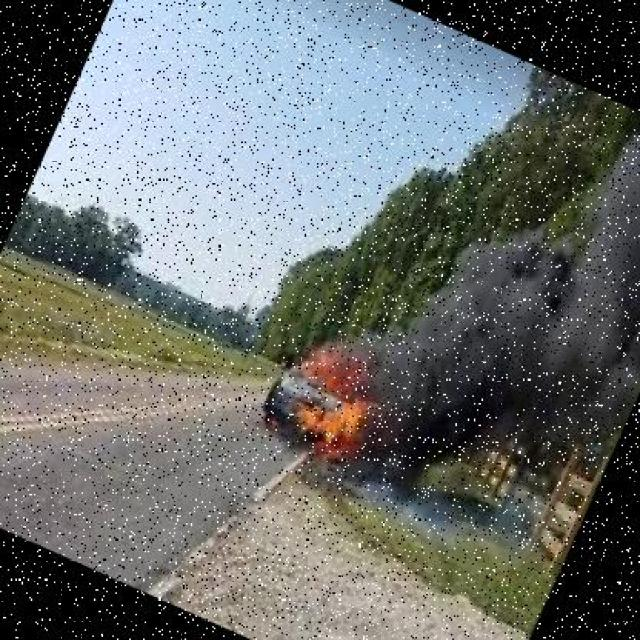fire: (257, 318, 409, 476)
